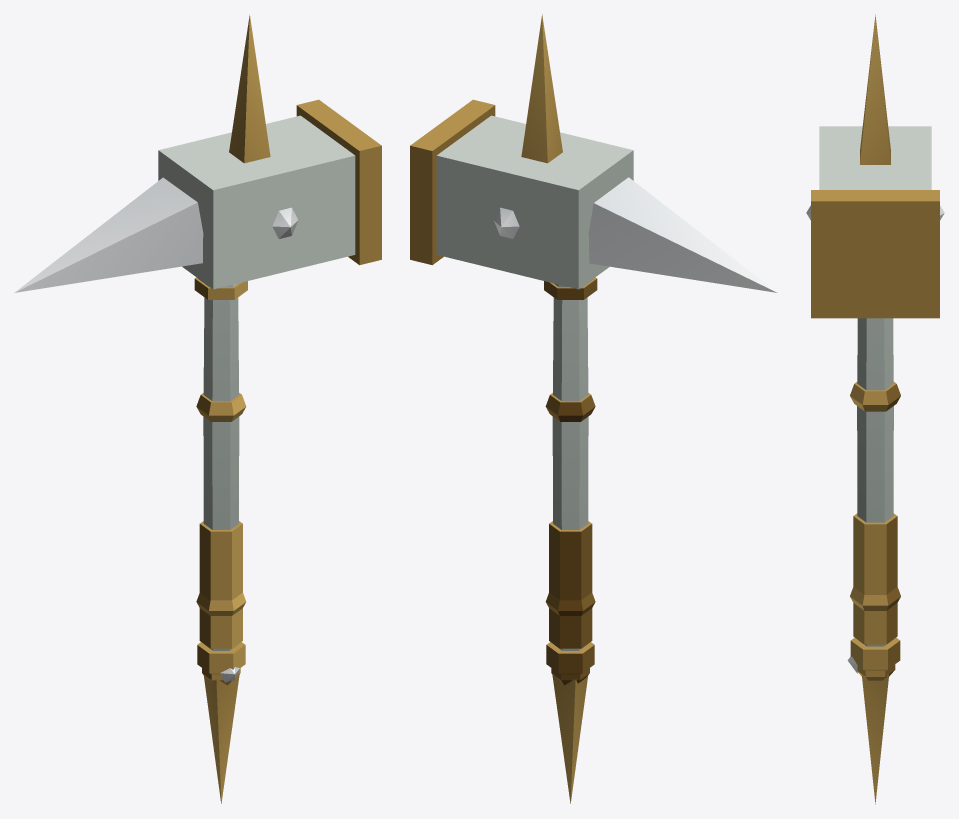
File: knight_warhammer_4.gltf
The picture shows the model from 3 angles, left to right: view 1: azimuth 30°, elevation 25°; view 2: azimuth 150°, elevation 25°; view 3: azimuth 270°, elevation 25°; orthographic projection. The views are drawn at different scales.
Visible parts, largest first — view 1: knight_warhammer_4; view 2: knight_warhammer_4; view 3: knight_warhammer_4.
Part boxes in pixels (x1,y1,x2,y2): knight_warhammer_4: (14,14,381,803); knight_warhammer_4: (410,14,777,803); knight_warhammer_4: (806,14,944,804).
Bounding box in the file's own units: 0.901 × 2.01 × 0.3132.
1 material, 1 textured.
